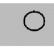no answer: (22, 8, 46, 34)
